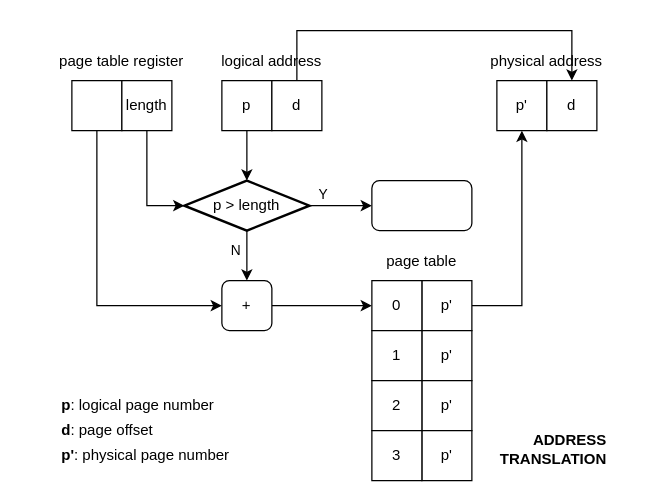
Image size: 668x503. Some labels were removed from this diagram. Each missing label, with the centre of its shape:
base: (x=96, y=105)
boundary error: (x=421, y=205)
